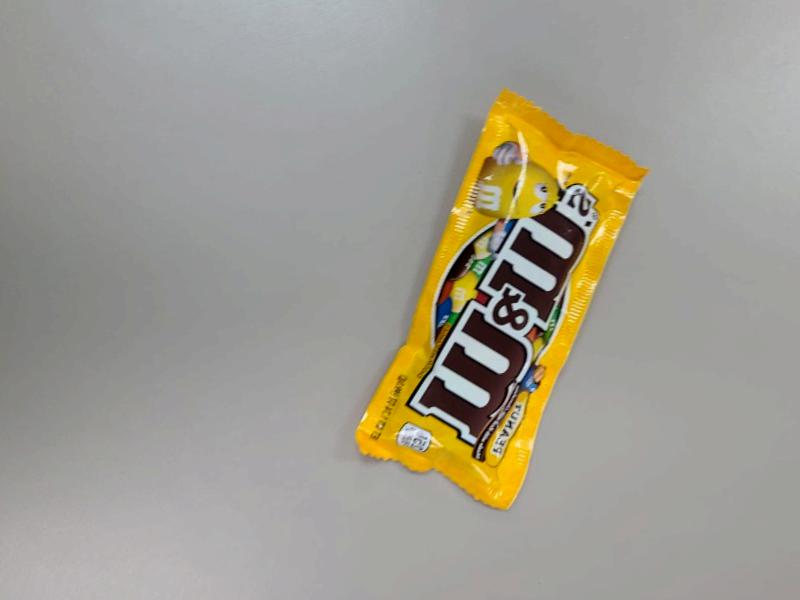m&m: (315, 49, 658, 534)
